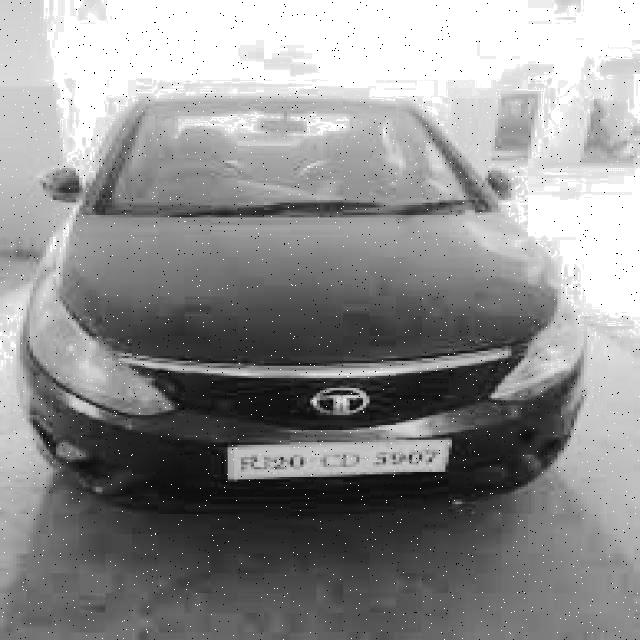Car: (31, 95, 605, 509)
